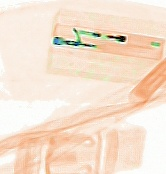lighter: (50, 22, 164, 60)
